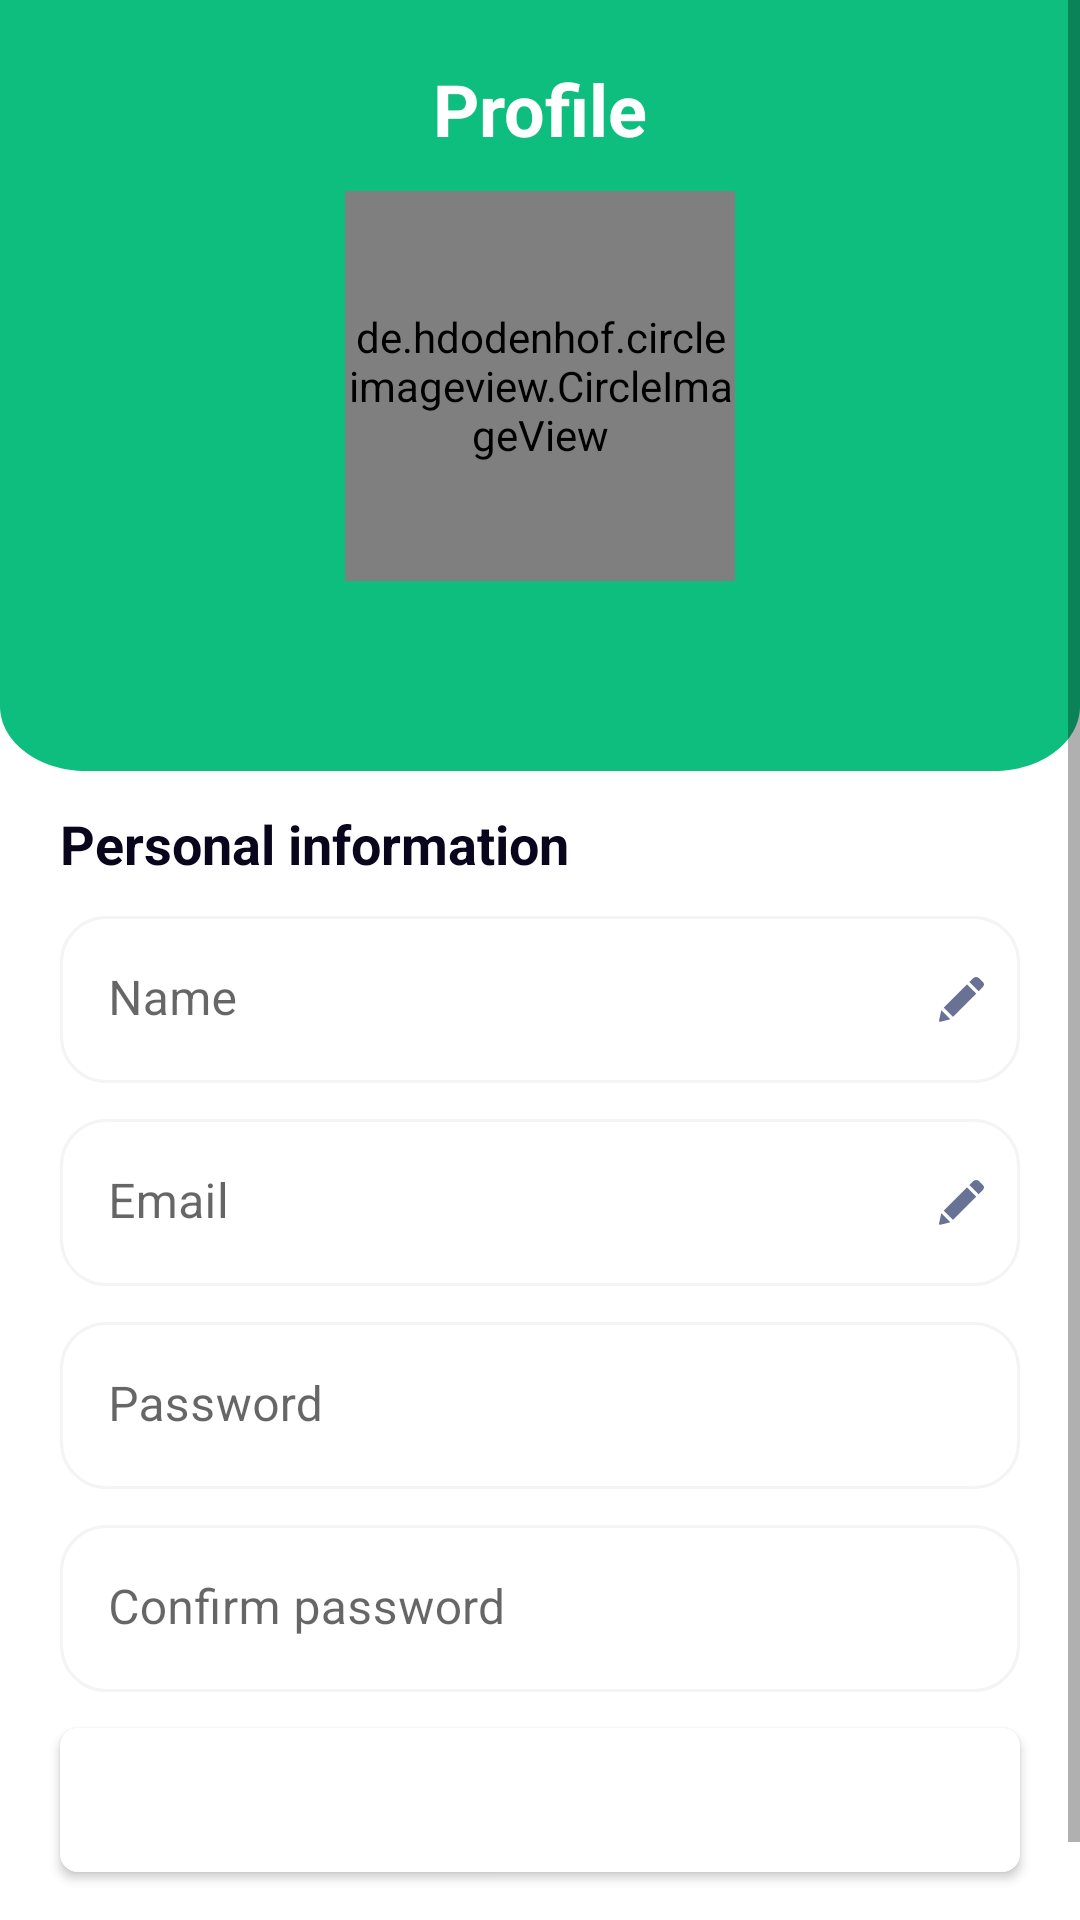

Locate icon controls on the screen. Image size 1080 x 1920, boxes as (x1, y1, x2, y2).
pen: (939, 977, 984, 1022), (939, 1180, 984, 1225)
